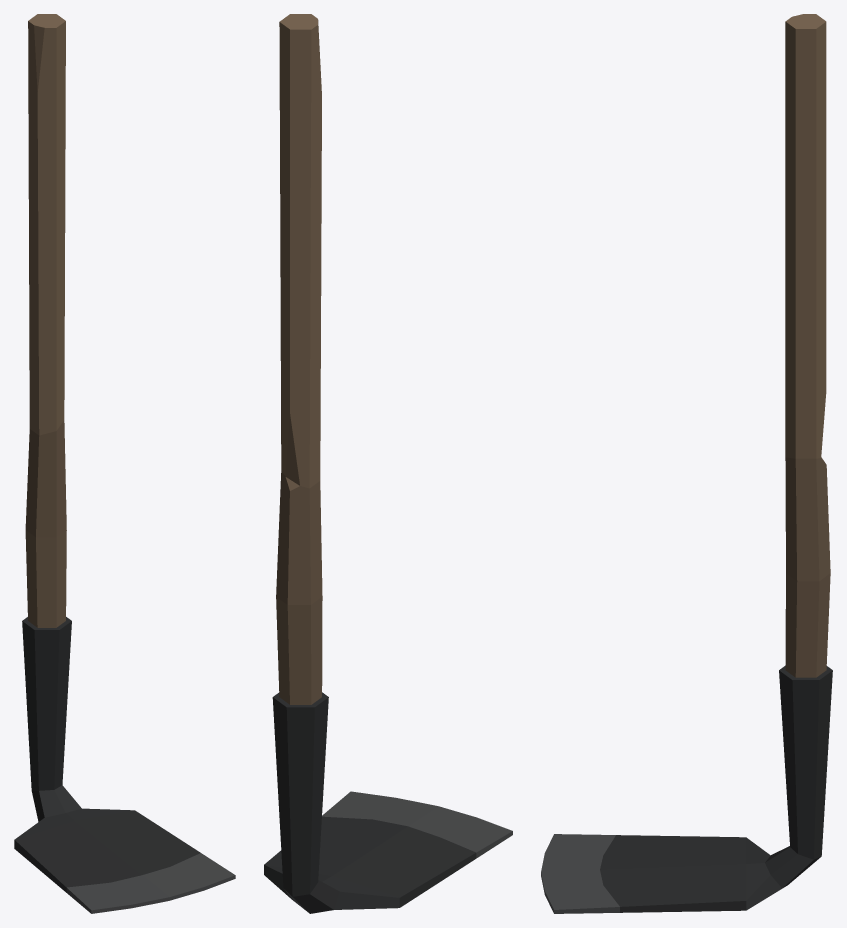
Rendered from SM_Props_Farm_Tool_Spade.fbx.
The picture shows the model from 3 angles, left to right: view 1: azimuth 30°, elevation 25°; view 2: azimuth 150°, elevation 25°; view 3: azimuth 270°, elevation 25°; orthographic projection. The views are drawn at different scales.
Parts seen in each view (by area): view 1: SM_Props_Farm_Tool_Spade; view 2: SM_Props_Farm_Tool_Spade; view 3: SM_Props_Farm_Tool_Spade.
Part boxes in pixels (<box>): SM_Props_Farm_Tool_Spade: <box>14,14,235,913</box>; SM_Props_Farm_Tool_Spade: <box>264,14,512,913</box>; SM_Props_Farm_Tool_Spade: <box>541,14,832,913</box>.
Bounding box in the file's own units: 21.54 × 114 × 34.94.
